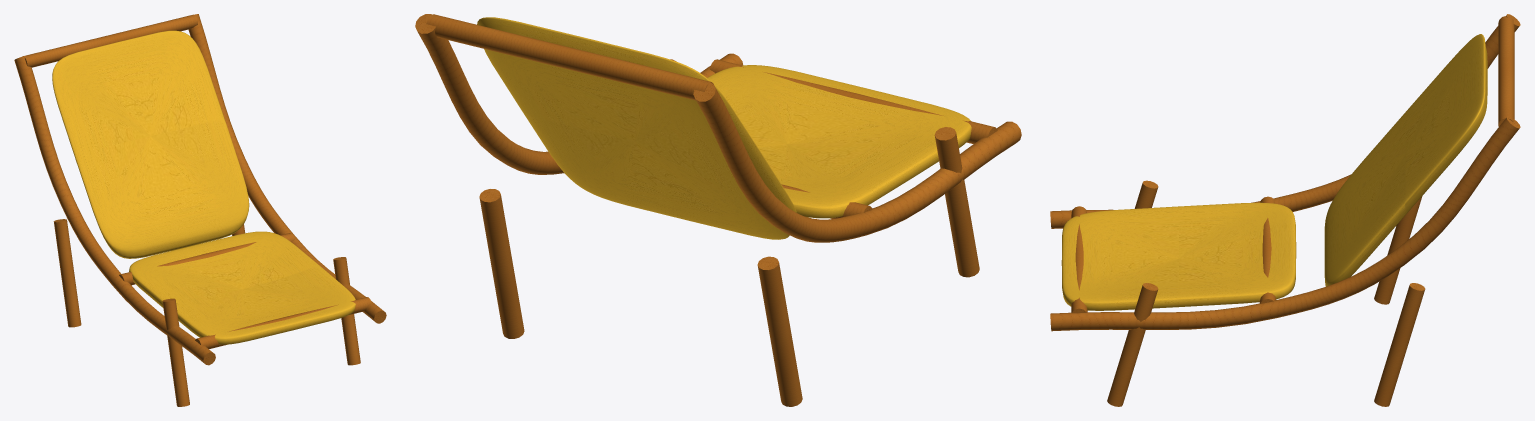
Rendered from lounger.glb.
The picture shows the model from 3 angles, left to right: view 1: azimuth 30°, elevation 25°; view 2: azimuth 150°, elevation 25°; view 3: azimuth 270°, elevation 25°; orthographic projection. The views are drawn at different scales.
Parts seen in each view (by area): view 1: lounger_sunshine canvas, lounger_bamboo; view 2: lounger_sunshine canvas, lounger_bamboo; view 3: lounger_sunshine canvas, lounger_bamboo.
Part boxes in pixels (<box>): lounger_sunshine canvas: <box>52,30,355,344</box>; lounger_bamboo: <box>14,14,386,406</box>; lounger_sunshine canvas: <box>477,17,971,239</box>; lounger_bamboo: <box>415,14,1021,406</box>; lounger_sunshine canvas: <box>1061,34,1487,310</box>; lounger_bamboo: <box>1050,14,1520,406</box>.
Bounding box in the file's own units: 0.73 × 0.8913 × 1.32.
Materials: 2 (2 with a texture image).
